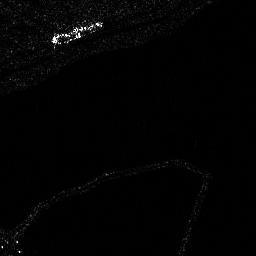ship: (52, 19, 105, 46)
